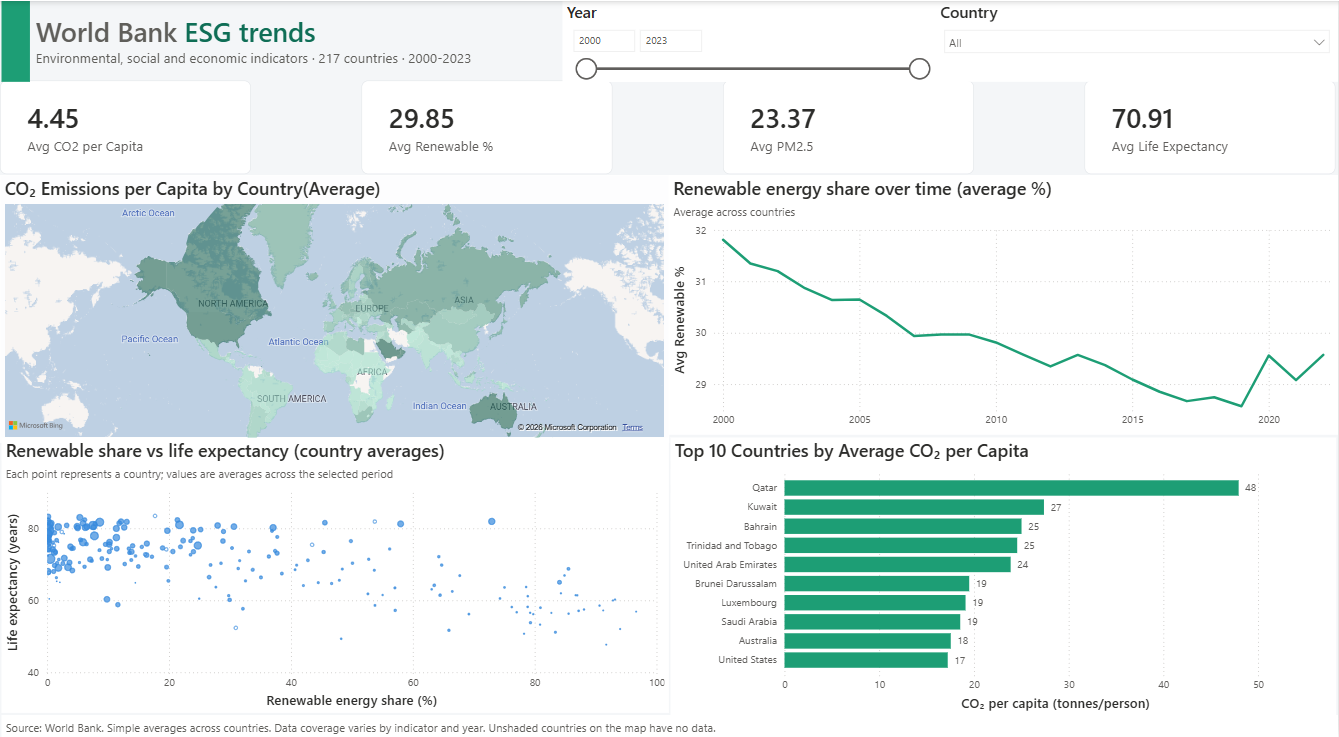

This screenshot's page, from the dashboard's own definition file:
{"tool":"powerbi","page":{"name":"Page 1","canvas":[1600,880],"ordinal":0},"visuals":[{"type":"cardVisual","fields":{"Data":["marts mart_country_esg_trends.Avg CO2 per Capita(tonnes/person)"]},"box":[0,95,300,112],"z":0},{"type":"cardVisual","fields":{"Data":["marts mart_country_esg_trends.Avg Life Expectancy"]},"box":[1296,95,300,112],"z":1000},{"type":"cardVisual","fields":{"Data":["marts mart_country_esg_trends.Avg PM2.5"]},"box":[864,95,300,112],"z":2000},{"type":"cardVisual","fields":{"Data":["marts mart_country_esg_trends.Avg Renewable %"]},"box":[432,95,300,112],"z":3000},{"type":"lineChart","title":"Renewable energy share over time (average %)","fields":{"Category":["marts mart_country_esg_trends.year"],"Y":["marts mart_country_esg_trends.Avg Renewable %"]},"box":[799.9,208,800,310.9],"z":4000},{"type":"scatterChart","title":"Renewable share vs life expectancy (country averages)","fields":{"X":["marts mart_country_esg_trends.Avg Renewable %"],"Y":["marts mart_country_esg_trends.Avg Life Expectancy"],"Category":["marts mart_country_esg_trends.country_iso3"],"Size":["marts mart_country_esg_trends.Avg CO2 per Capita"]},"box":[1.7,521.8,797.9,329.2],"z":5000},{"type":"clusteredBarChart","title":"Top 10 Countries by Average CO₂ per Capita","fields":{"Category":["marts mart_country_esg_trends.country_name"],"Y":["marts mart_country_esg_trends.Avg CO2 per Capita"]},"box":[802.5,521.8,796.3,331.8],"z":6000},{"type":"filledMap","title":"CO₂ Emissions per Capita by Country(Average)","fields":{"Category":["marts mart_country_esg_trends.country_name"]},"box":[0,208,800,320],"z":7000},{"type":"textbox","box":[37,8.9,640.3,86.1],"z":8000},{"type":"textbox","box":[1.7,853.3,1597.9,31.2],"z":9000},{"type":"slicer","title":"Year","fields":{"Values":["marts mart_country_esg_trends.year"]},"box":[672,0,448,96],"z":10000},{"type":"slicer","title":"Country","fields":{"Values":["marts mart_country_esg_trends.country_name"]},"box":[1119.3,0,480.7,96.5],"z":11000},{"type":"shape","box":[1.8,0,34.1,96.8],"z":12000}]}

Visuals, with their boxes in screenshot pixels (x1, y1, x2, y2), scaled from the page's 1600x880 canvas onto the 1339x737 screenshot:
cardVisual - marts mart_country_esg_trends.Avg CO2 per Capita(tonnes/person): (0,80,251,173)
cardVisual - marts mart_country_esg_trends.Avg Life Expectancy: (1085,80,1336,173)
cardVisual - marts mart_country_esg_trends.Avg PM2.5: (723,80,974,173)
cardVisual - marts mart_country_esg_trends.Avg Renewable %: (362,80,613,173)
"Renewable energy share over time (average %)" lineChart: (669,174,1338,435)
"Renewable share vs life expectancy (country averages)" scatterChart: (1,437,669,713)
"Top 10 Countries by Average CO₂ per Capita" clusteredBarChart: (672,437,1338,715)
"CO₂ Emissions per Capita by Country(Average)" filledMap: (0,174,670,442)
textbox: (31,7,567,80)
textbox: (1,715,1338,736)
"Year" slicer: (562,0,937,80)
"Country" slicer: (937,0,1338,81)
shape: (2,0,30,81)
